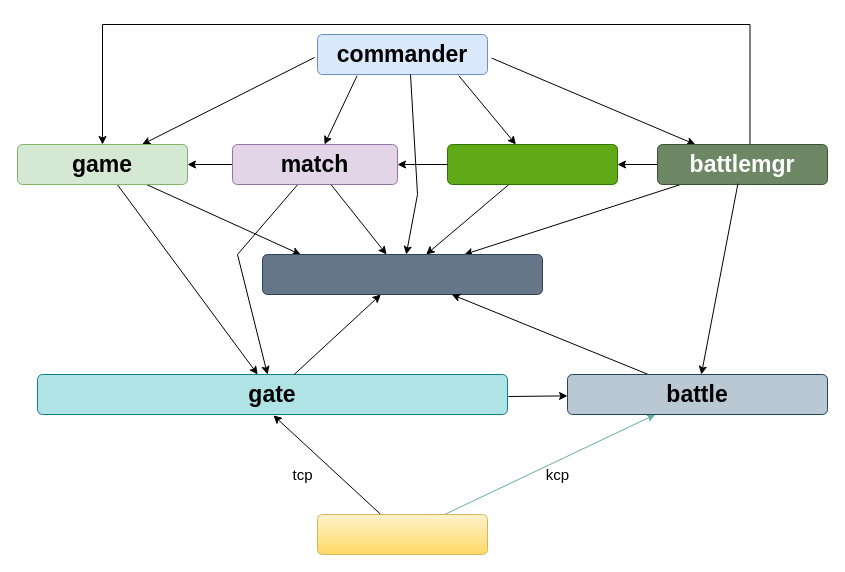
The diagram is 845 pixels wide and 572 high, and some of its shapes have lost their labels. The shapes that lost their labels are listed below. From the top down, each one's centre as x and y in pixels, then its label:
At point (532, 164): "room".
At point (402, 274): "world(router)".
At point (402, 534): "clients".
